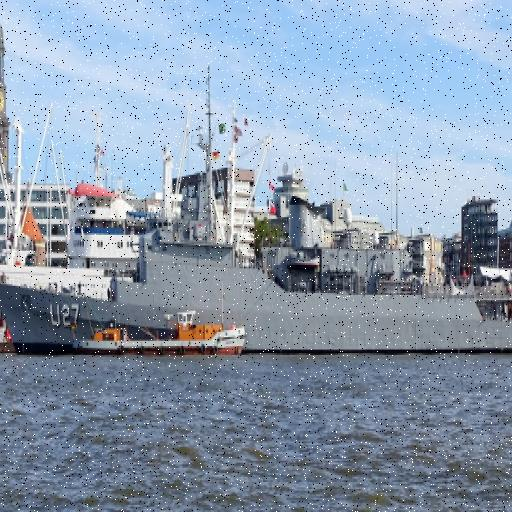Fragata: (1, 67, 512, 360)
